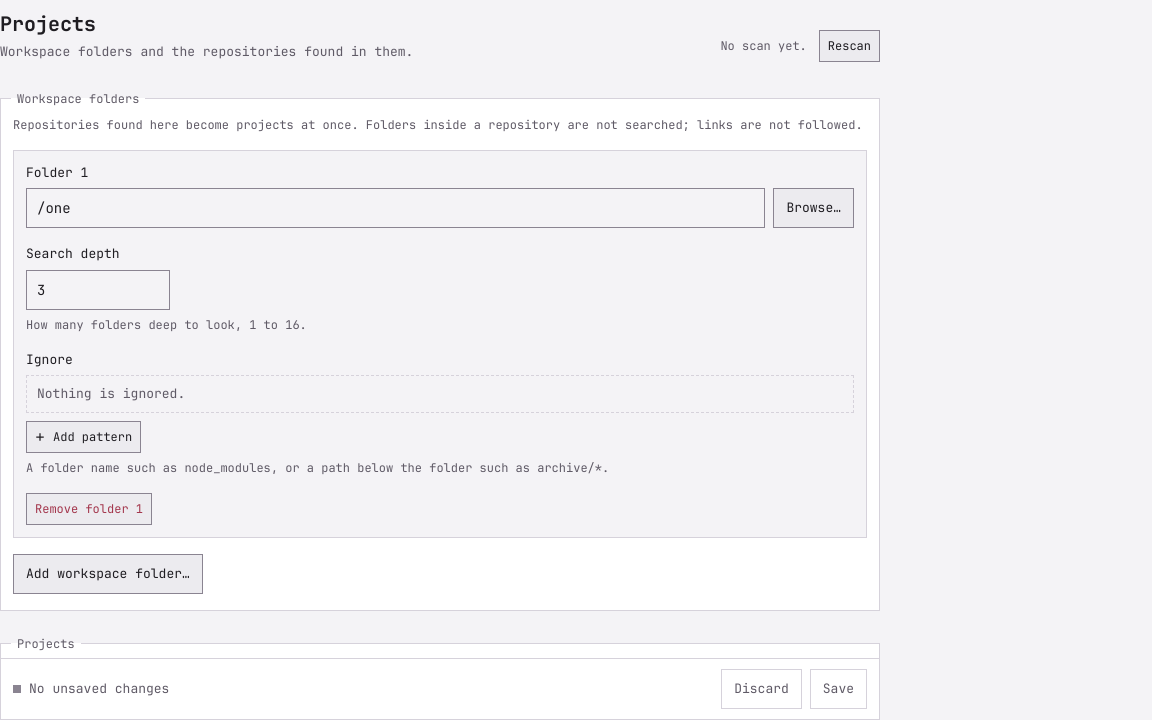
Scenario: a refusal naming a key of a folder the form has no field for is shown above the form
The width and height of the screenshot is (1152, 720).
Replace the text in the field labelled "Folder 1" with "/one/x" at coordinates (396, 208), box [26,188,765,228]
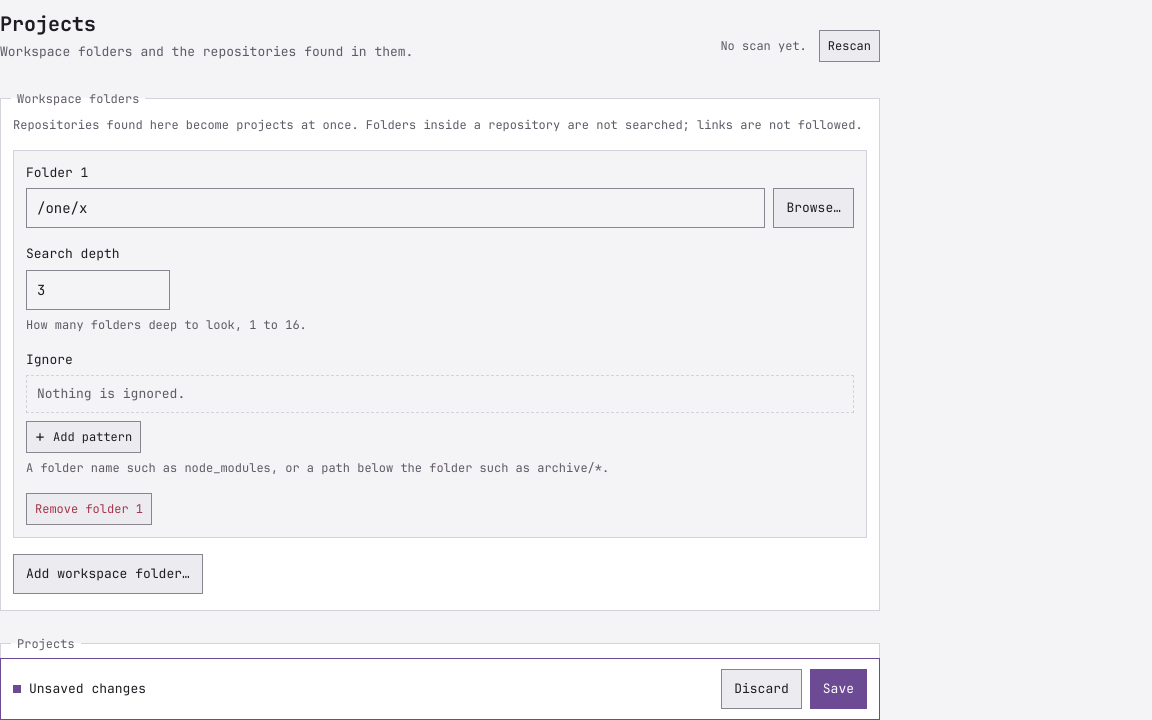
Click the button "Save".
click(838, 689)  # box [810,669,867,709]
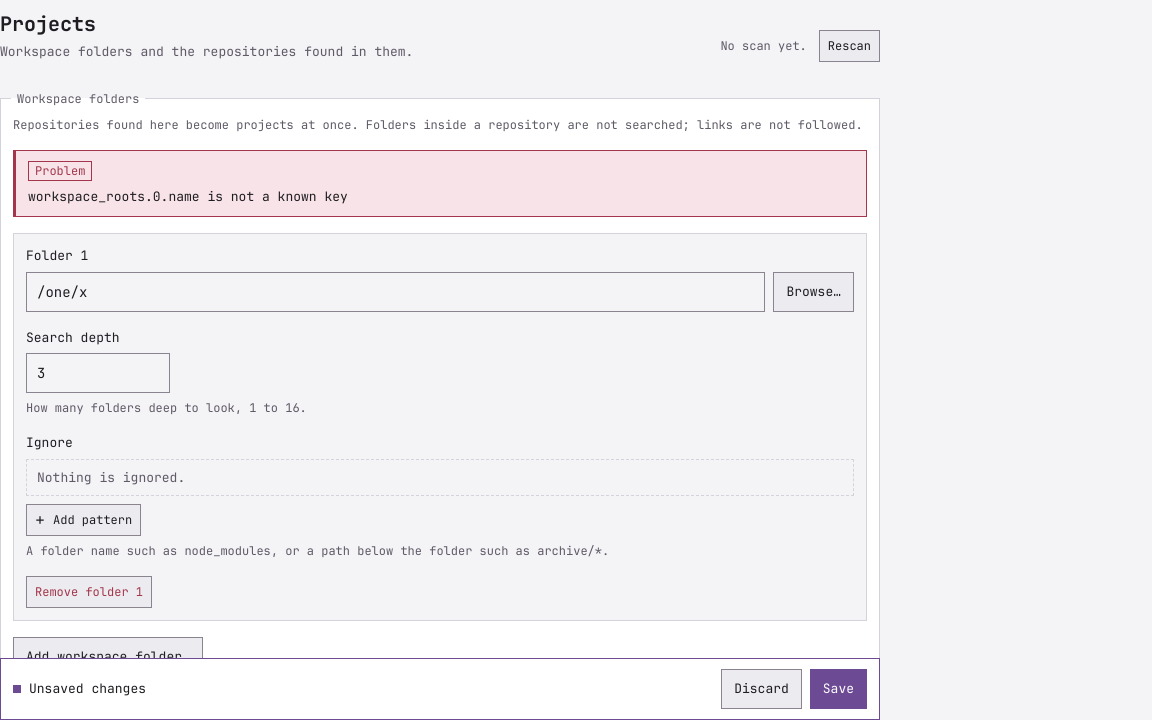
Check: the message "Problem workspace_roots.0.name is not a known key" is shown, box [13,150,867,217]
